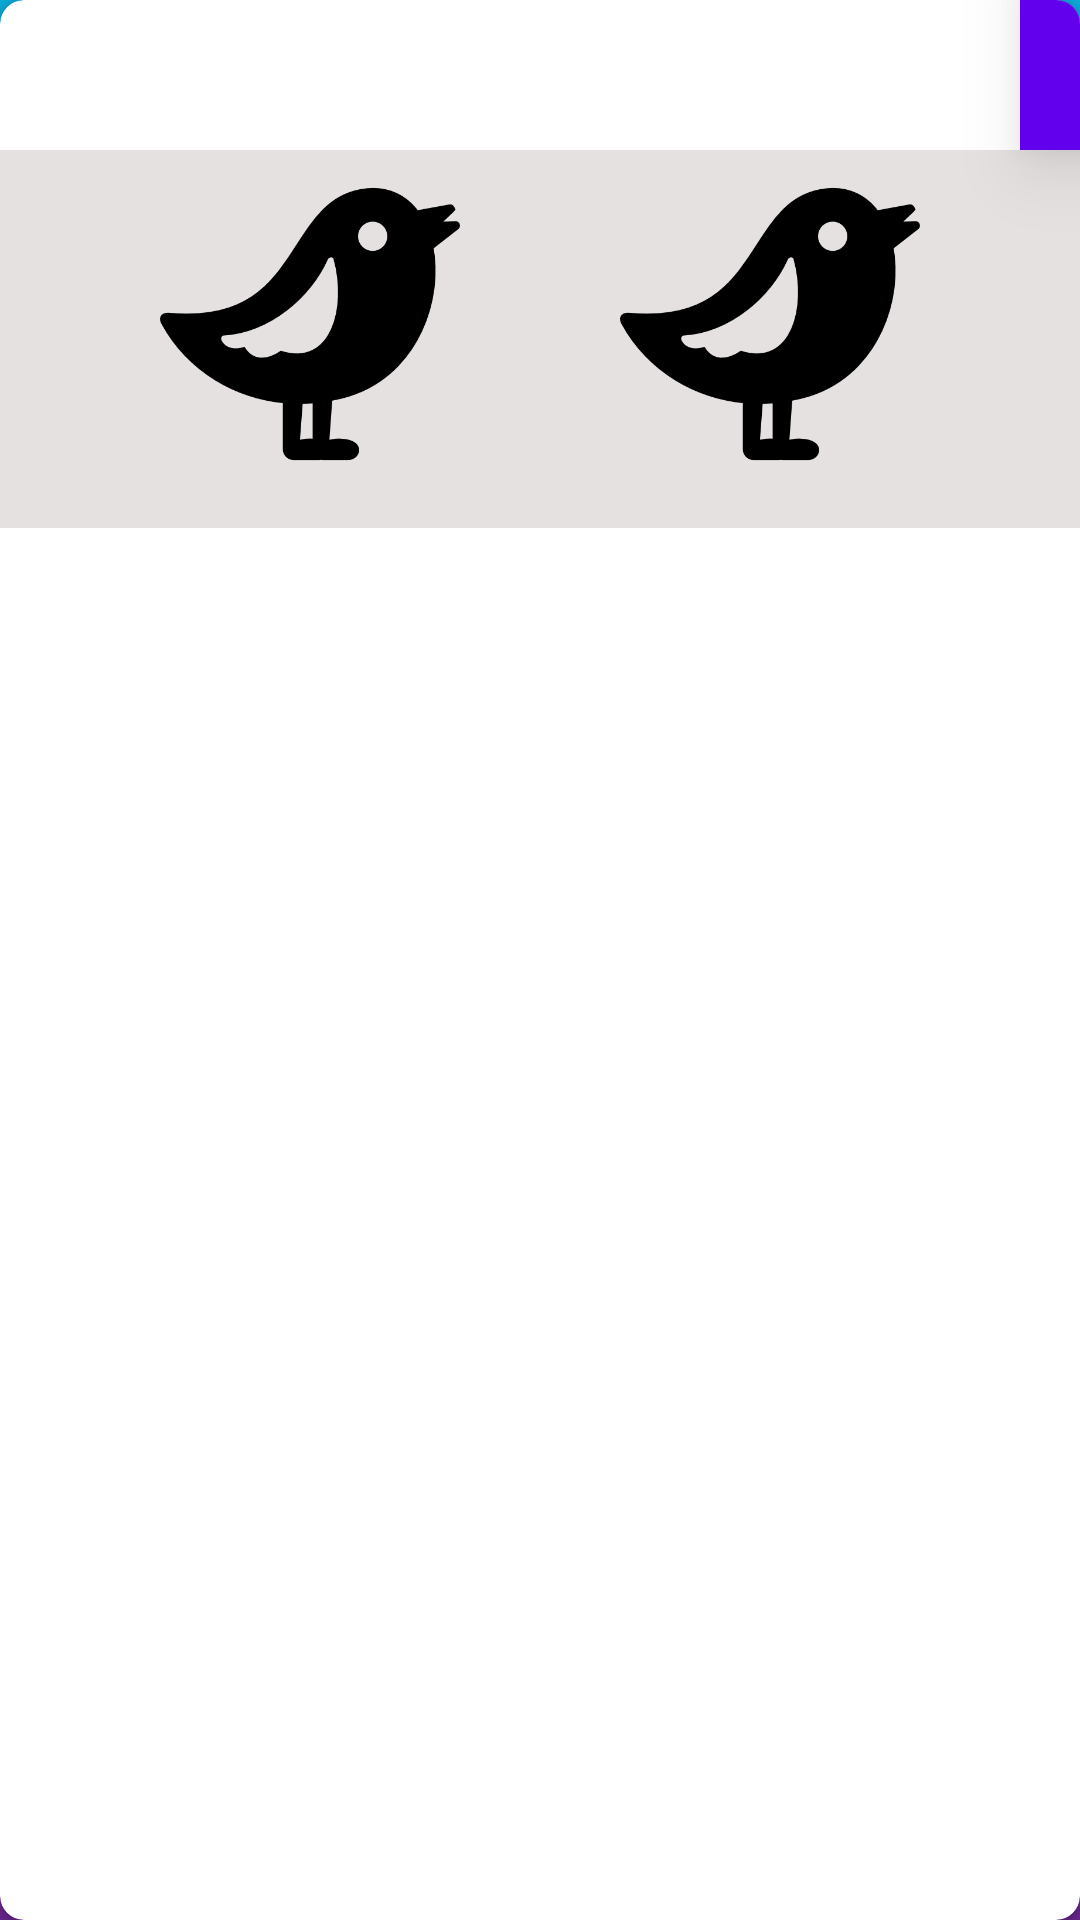

Screen size 1080px×1920px. Icon name, then its box in pixels as [left=x1, top=y1, right=x2, bottom=y2]:
bird: [left=160, top=188, right=460, bottom=460], [left=620, top=188, right=920, bottom=460]
